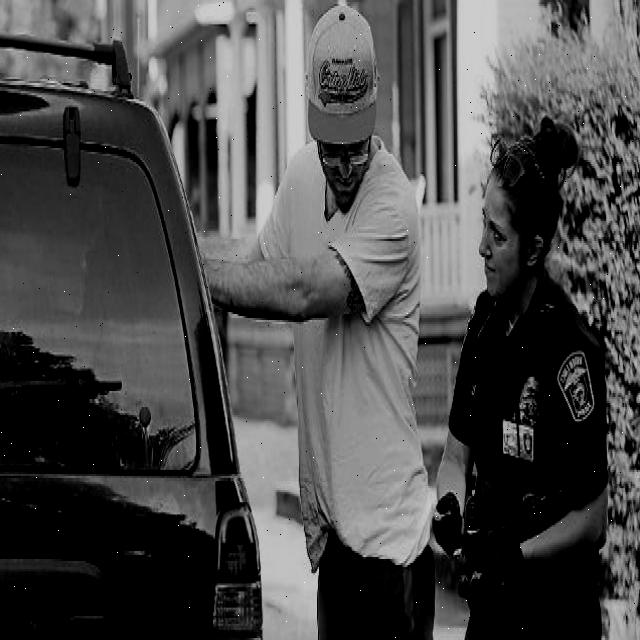police: (428, 105, 610, 640)
